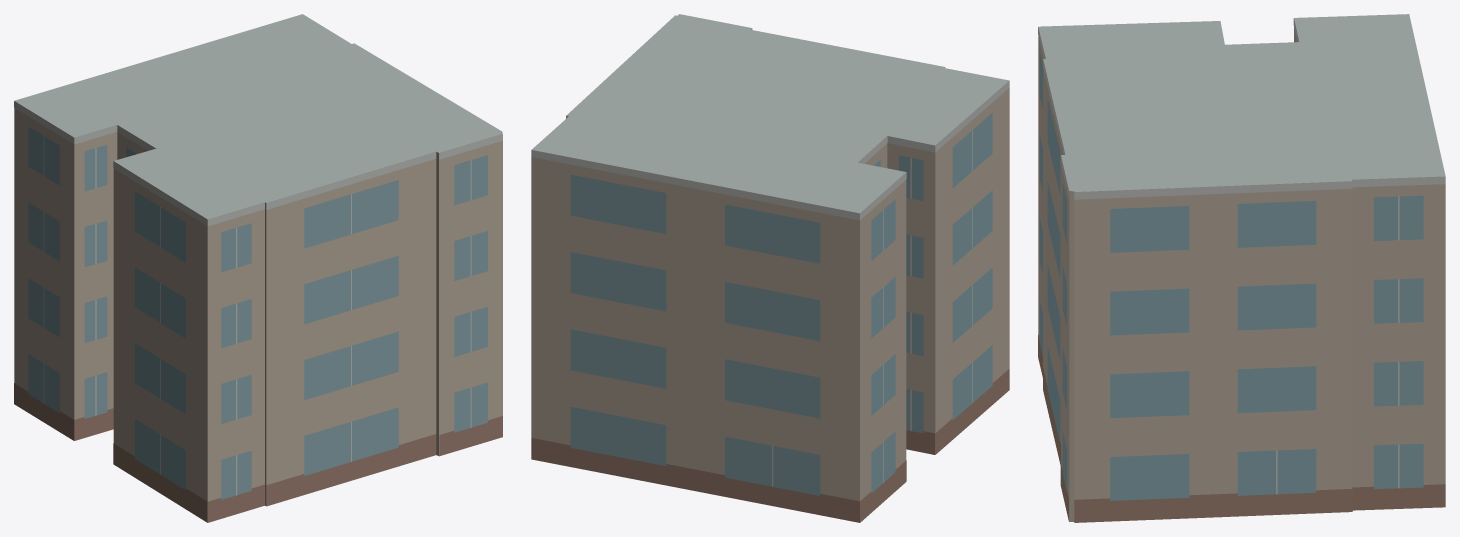
Rendered from survey-upis-32654907.glb.
3 renders of one model, left to right at view 1: azimuth 30°, elevation 25°; view 2: azimuth 150°, elevation 25°; view 3: azimuth 270°, elevation 25°, orthographic. The views are drawn at different scales.
Visible parts, largest first — view 1: survey-upis-32654907.tmp; view 2: survey-upis-32654907.tmp; view 3: survey-upis-32654907.tmp.
Boxes of the visible parts, bbox=[...] form: survey-upis-32654907.tmp: bbox=[14, 14, 502, 522]; survey-upis-32654907.tmp: bbox=[531, 14, 1009, 522]; survey-upis-32654907.tmp: bbox=[1038, 14, 1445, 522].
Size of the model in its own units: 12.25 by 10.6 by 11.85.
